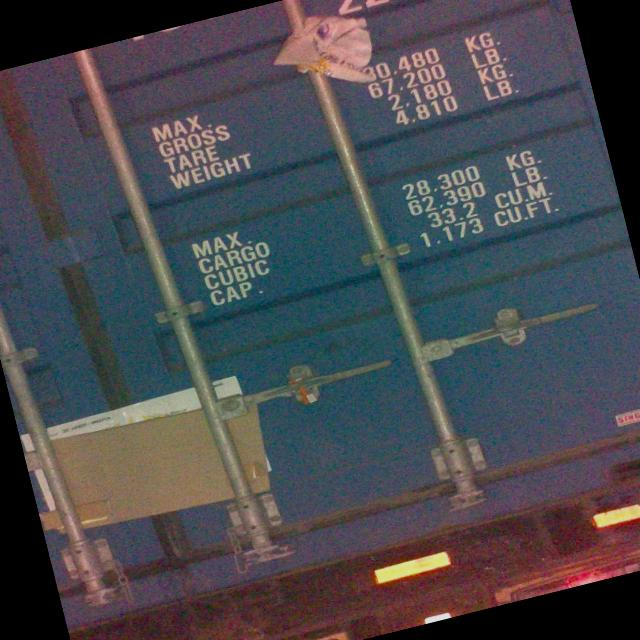seal: (278, 368, 329, 409)
